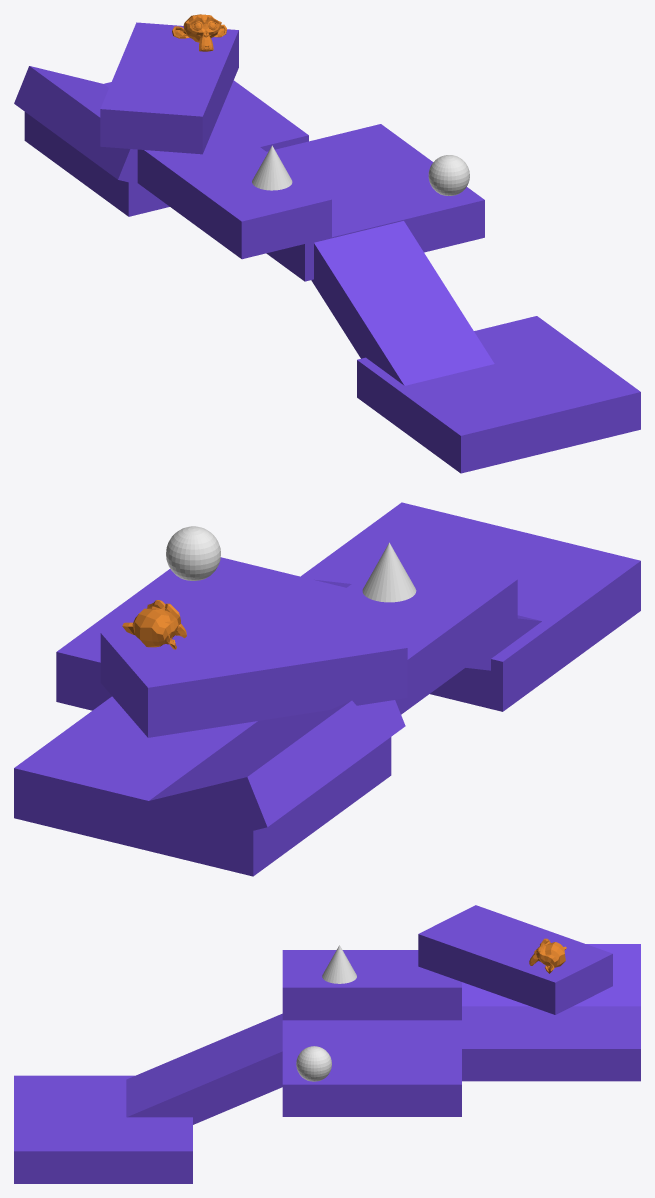
Rendered from stuff2.glb.
The picture shows the model from 3 angles, top to bottom: view 1: azimuth 30°, elevation 25°; view 2: azimuth 150°, elevation 25°; view 3: azimuth 270°, elevation 25°; orthographic projection. The views are drawn at different scales.
Parts seen in each view (by area): view 1: Cube.005, Cube.004, Cube, Cube.001, Cube.002, Cube.003, Cube.006, Sphere, Suzanne, Cone; view 2: Cube.002, Cube.003, Cube.005, Cube.006, Cube.001, Cube, Sphere, Suzanne, Cone, Cube.004; view 3: Cube.005, Cube, Cube.003, Cube.002, Cube.001, Cube.004, Cube.006, Sphere, Cone, Suzanne.
Part boxes in pixels (<box>): Cube.005: <box>357,316,640,473</box>; Cube.004: <box>311,221,494,385</box>; Cube: <box>266,124,484,281</box>; Cube.001: <box>137,123,331,259</box>; Cube.002: <box>100,22,238,154</box>; Cube.003: <box>24,80,308,216</box>; Cube.006: <box>14,66,137,183</box>; Sphere: <box>428,155,469,195</box>; Suzanne: <box>172,14,226,51</box>; Cone: <box>252,145,292,190</box>; Cube.002: <box>100,593,407,737</box>; Cube.003: <box>14,696,391,876</box>; Cube.005: <box>301,502,640,711</box>; Cube.006: <box>146,700,405,851</box>; Cube.001: <box>334,550,517,714</box>; Cube: <box>56,557,345,710</box>; Sphere: <box>166,526,220,580</box>; Suzanne: <box>122,600,186,649</box>; Cone: <box>362,542,416,602</box>; Cube.004: <box>314,579,541,670</box>; Cube.005: <box>14,1075,192,1183</box>; Cube: <box>282,1020,461,1116</box>; Cube.003: <box>462,1006,640,1081</box>; Cube.002: <box>418,905,612,1014</box>; Cube.001: <box>282,950,461,1020</box>; Cube.004: <box>126,1013,282,1124</box>; Cube.006: <box>462,944,640,1006</box>; Sphere: <box>296,1046,331,1081</box>; Cone: <box>322,945,356,983</box>; Suzanne: <box>529,938,566,973</box>.
Bounding box in the file's own units: 15.16 × 11.66 × 35.
